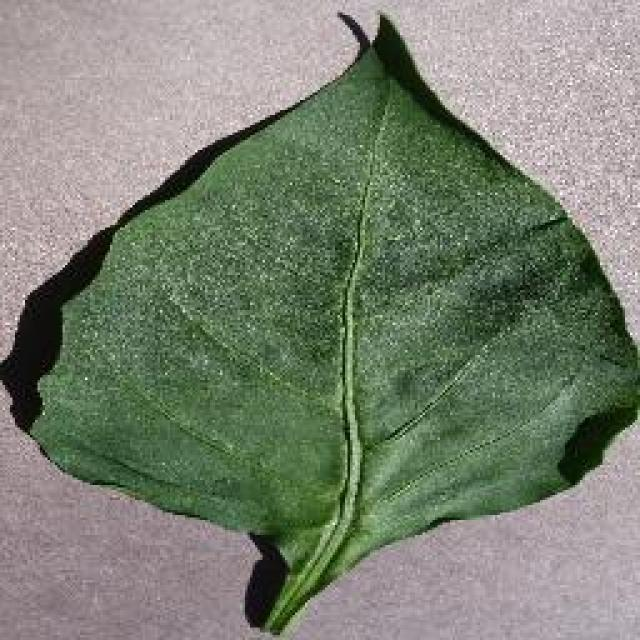Chilli_Healthy: (15, 8, 637, 638)
